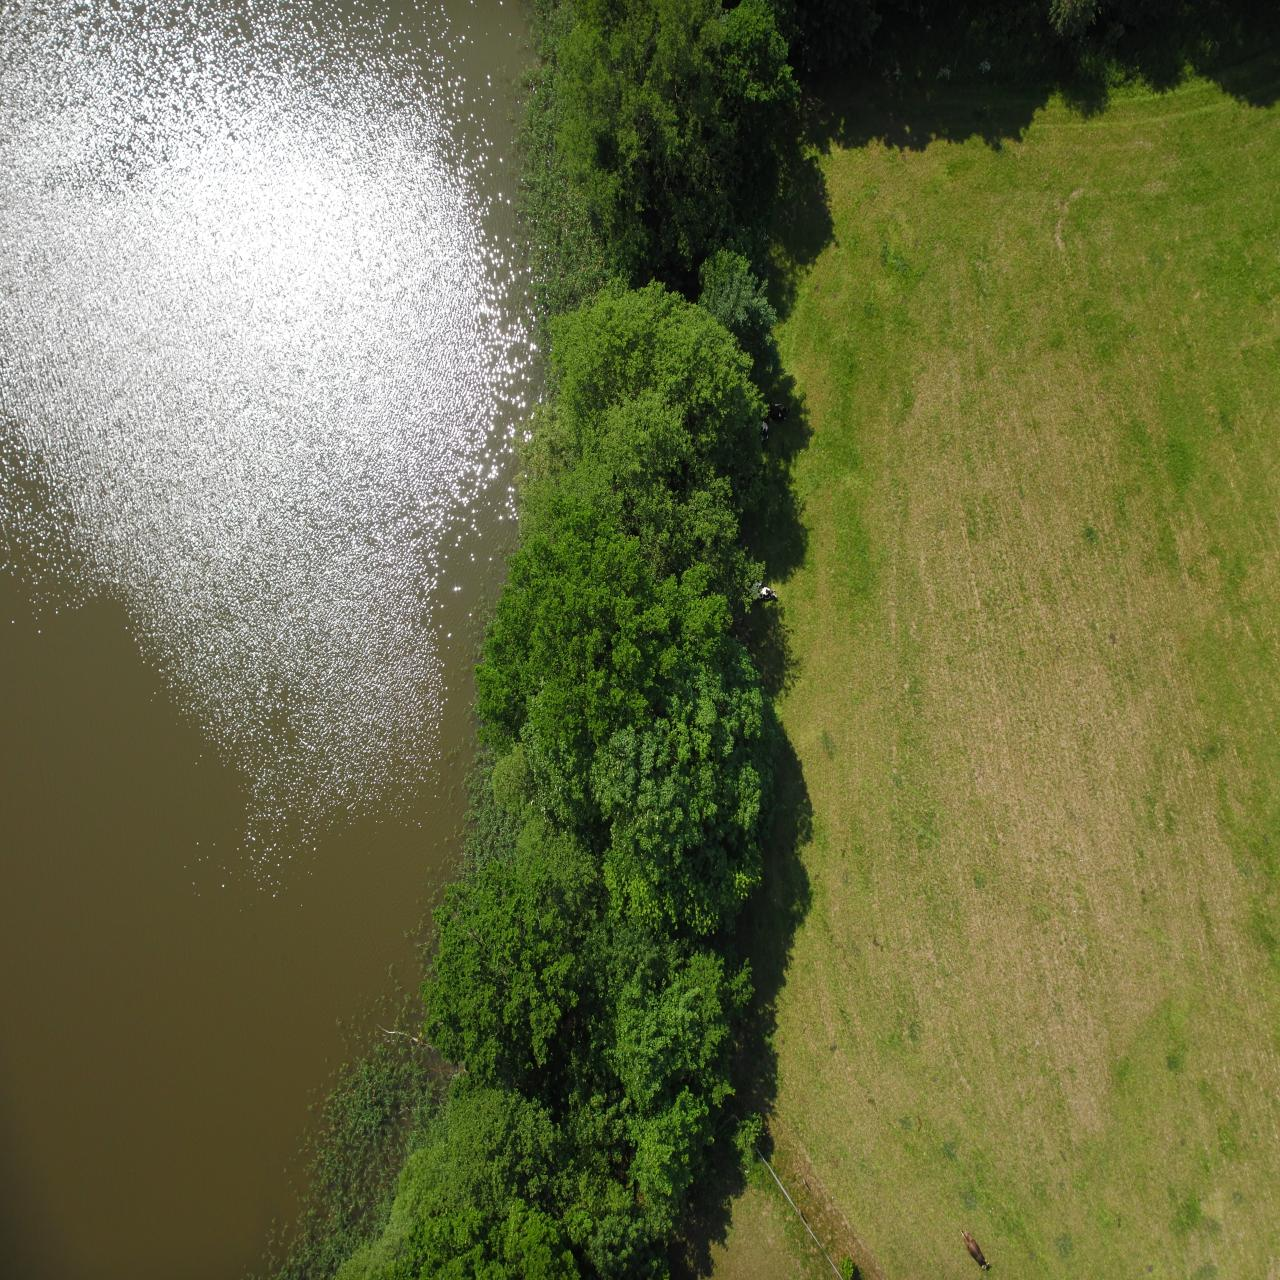cow: (289, 8, 319, 50), (501, 677, 529, 700)
